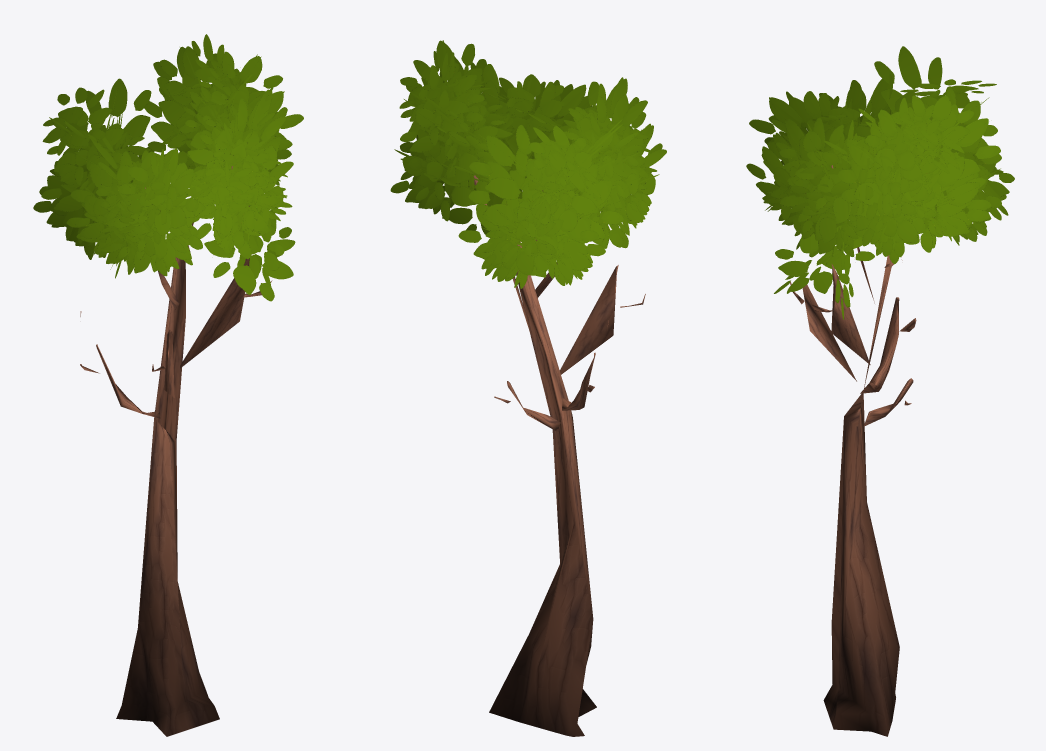
Rendered from commontree_4_1.glb.
The picture shows the model from 3 angles, left to right: view 1: azimuth 30°, elevation 25°; view 2: azimuth 150°, elevation 25°; view 3: azimuth 270°, elevation 25°; orthographic projection. The views are drawn at different scales.
Parts seen in each view (by area): view 1: CommonTree_4; view 2: CommonTree_4; view 3: CommonTree_4.
Boxes of the visible parts, x1,y1,x2,y2 form: CommonTree_4: [33, 34, 303, 736]; CommonTree_4: [390, 40, 666, 736]; CommonTree_4: [746, 46, 1014, 736].
Size of the model in its own units: 4.01 by 9.73 by 3.98.
Materials: 2 (2 with a texture image).
